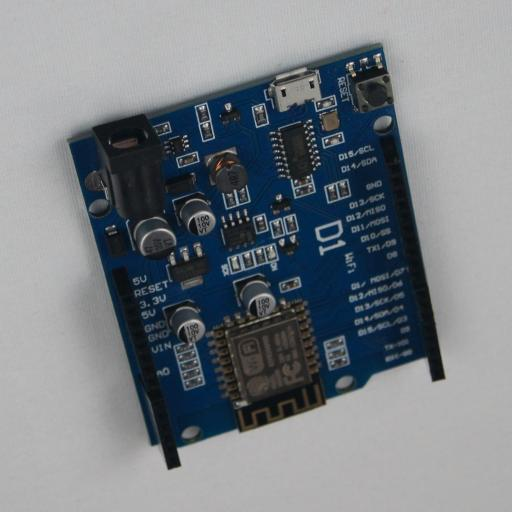Arduino Uno WiFi Shield: (67, 42, 445, 470)
